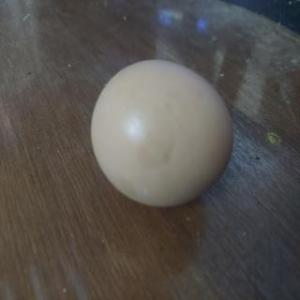egg: (90, 57, 236, 210)
